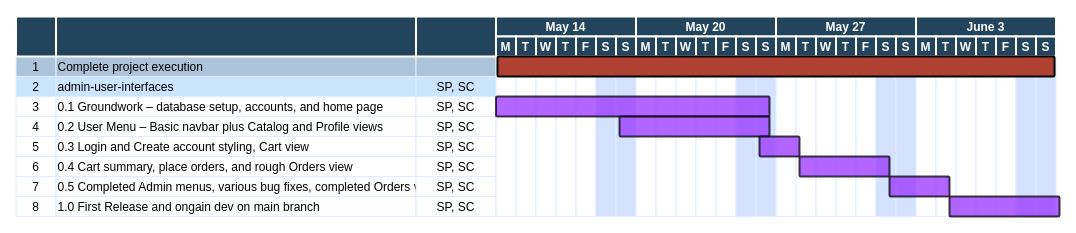
The diagram is 1076 pixels wide and 233 high, and some of its shapes have lost their labels. Here are the shapes that lost their labels. From the top down, the centre of each, then its label:
At pixel 235 36: "Task Name".
At pixel 455 36: "Developer".
